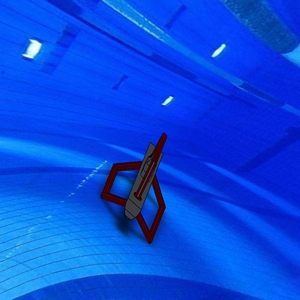submarine: (95, 127, 181, 246)
